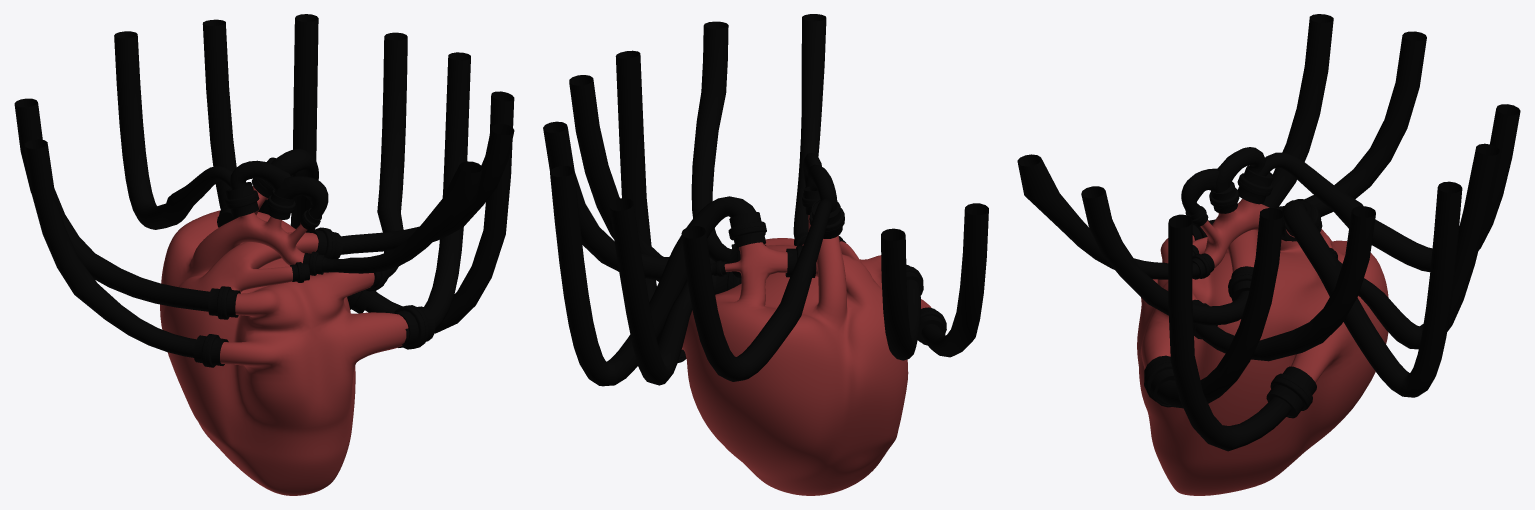
File: Heart.fbx
3 renders of one model, left to right at view 1: azimuth 30°, elevation 25°; view 2: azimuth 150°, elevation 25°; view 3: azimuth 270°, elevation 25°, orthographic. The views are drawn at different scales.
Parts seen in each view (by area): view 1: BezierCurve.116, Cube.209, Cylinder.090; view 2: BezierCurve.116, Cube.209, Cylinder.090; view 3: BezierCurve.116, Cube.209, Cylinder.090.
Boxes of the visible parts, left/top/right/bottom form: BezierCurve.116: left=14, top=14, right=514, bottom=357; Cube.209: left=160, top=186, right=408, bottom=495; Cylinder.090: left=193, top=157, right=435, bottom=367; BezierCurve.116: left=543, top=14, right=988, bottom=386; Cube.209: left=681, top=215, right=931, bottom=495; Cylinder.090: left=656, top=186, right=946, bottom=362; BezierCurve.116: left=1017, top=14, right=1520, bottom=451; Cube.209: left=1137, top=198, right=1388, bottom=495; Cylinder.090: left=1144, top=165, right=1337, bottom=418.
Size of the model in its own units: 49.5 by 40.74 by 49.32.
